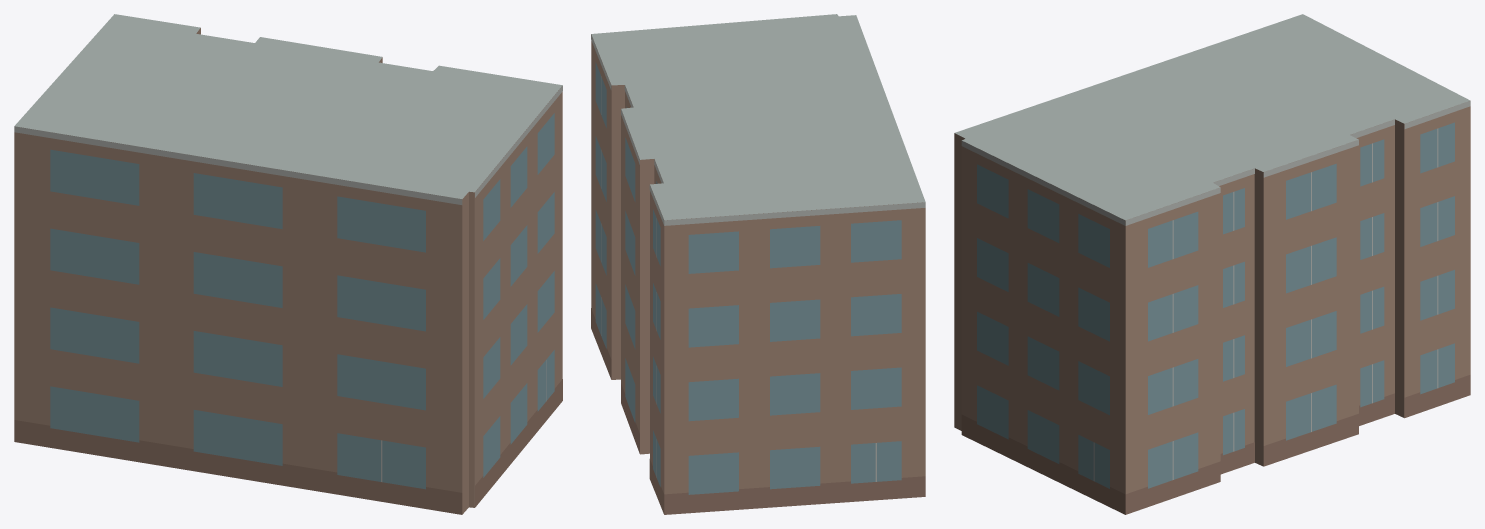
File: survey-upis-32628166.glb
The picture shows the model from 3 angles, left to right: view 1: azimuth 30°, elevation 25°; view 2: azimuth 150°, elevation 25°; view 3: azimuth 270°, elevation 25°; orthographic projection. The views are drawn at different scales.
Parts seen in each view (by area): view 1: survey-upis-32628166.tmp; view 2: survey-upis-32628166.tmp; view 3: survey-upis-32628166.tmp.
Part boxes in pixels (left/top/right/bottom): survey-upis-32628166.tmp: left=14, top=14, right=562, bottom=514; survey-upis-32628166.tmp: left=591, top=14, right=925, bottom=514; survey-upis-32628166.tmp: left=954, top=14, right=1470, bottom=514.
Size of the model in its own units: 19.25 by 12.8 by 20.35.
